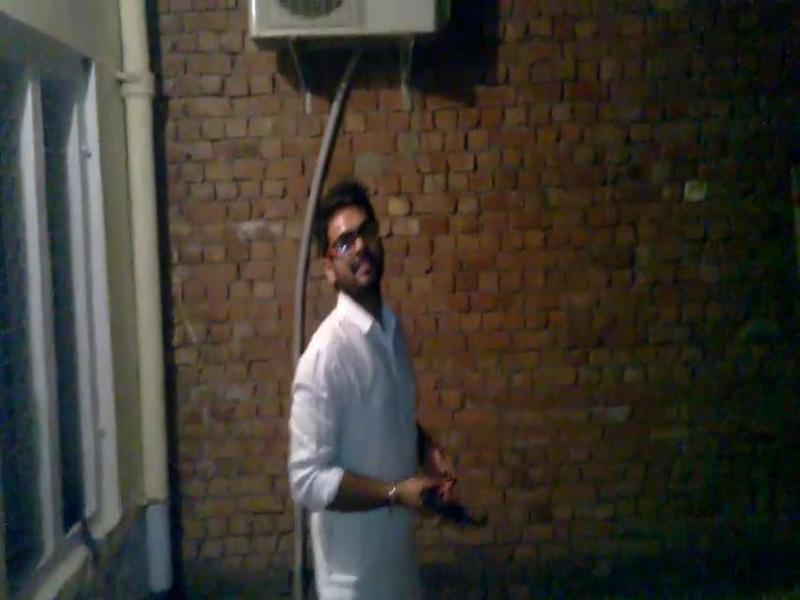Revolver: (397, 464, 489, 554)
